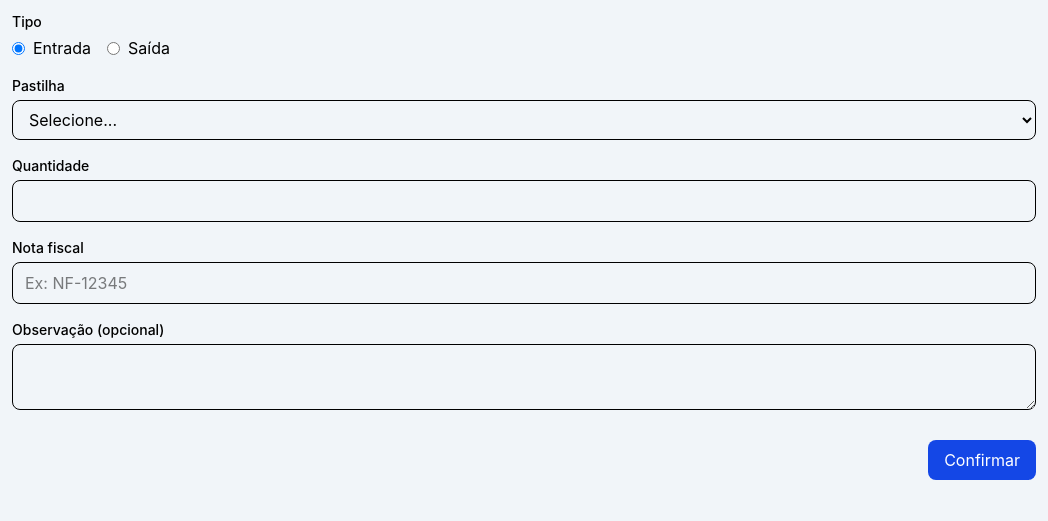
Scenario: MovimentacaoForm › CT70 - RF04/RN10: entrada válida envia item, quantidade e nota fiscal
Later steps or results of the test are not shown.
Select "PST-001 - CNMG (Estoque: 10)" in the dropdown labelled "Pastilha": (524, 120) [12, 100, 1036, 140]
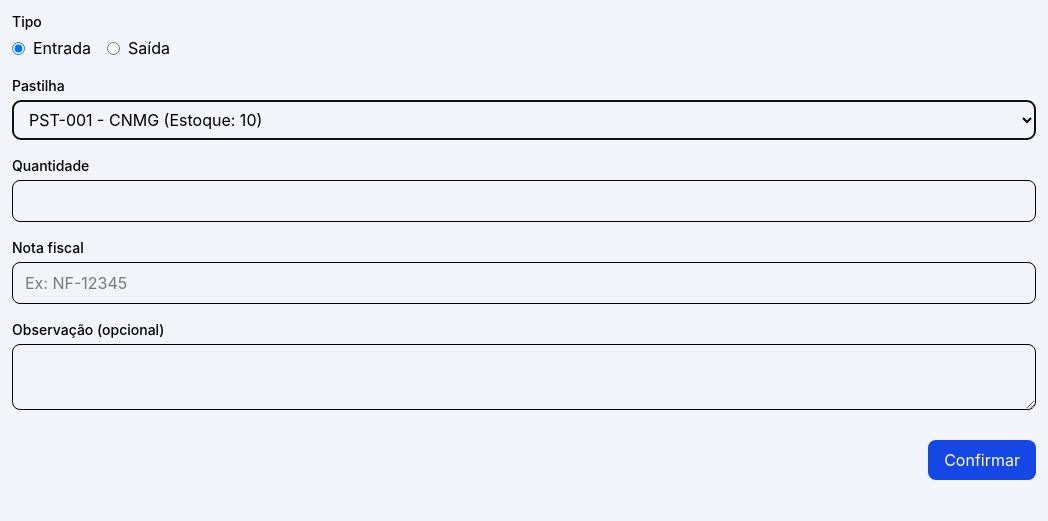
In the number field labelled "Quantidade": (524, 201) [12, 180, 1036, 222], type "20"
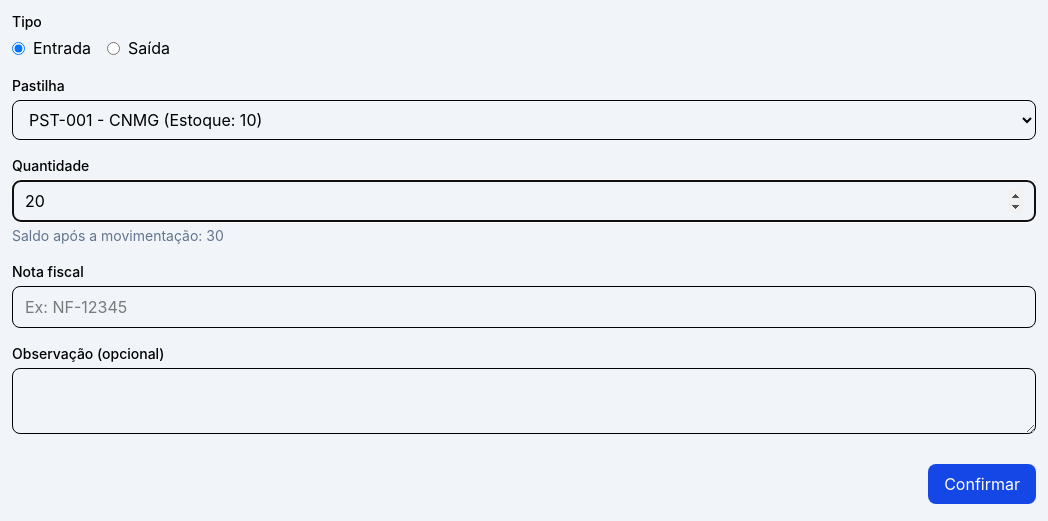
In the field labelled "Nota fiscal": (524, 307) [12, 286, 1036, 328], type "NF-12345"
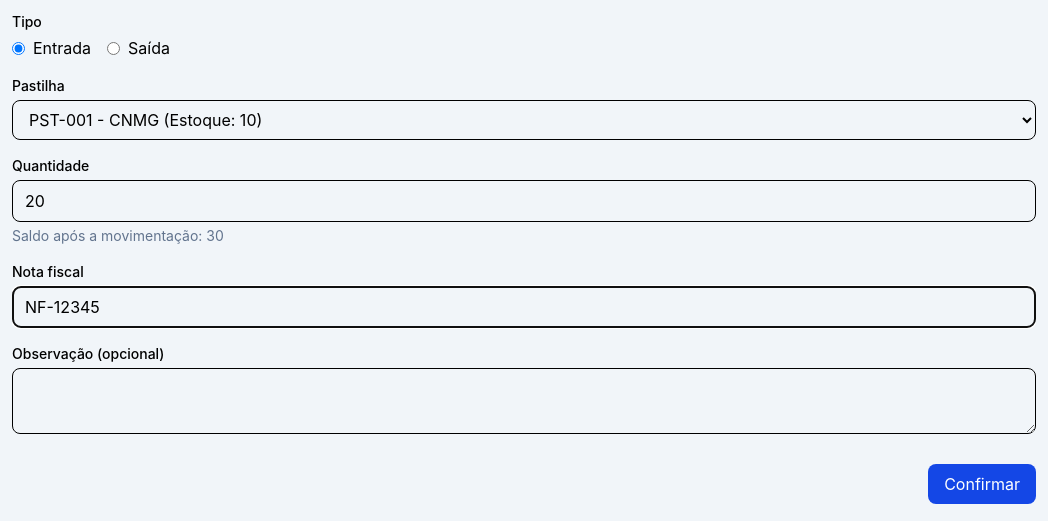
Check: the text with test id "saldo-previsto" reads "Saldo após a movimentação: 30", box [12, 227, 224, 244]
